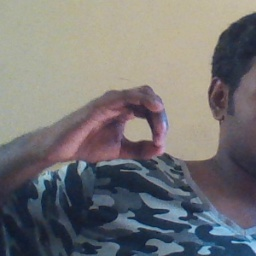O: (38, 84, 172, 165)
